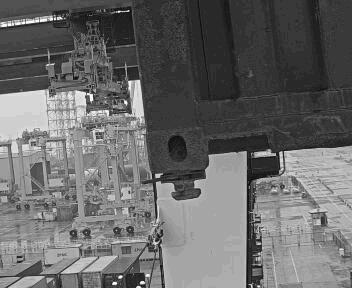twist_lock_1: (191, 164, 250, 200)
